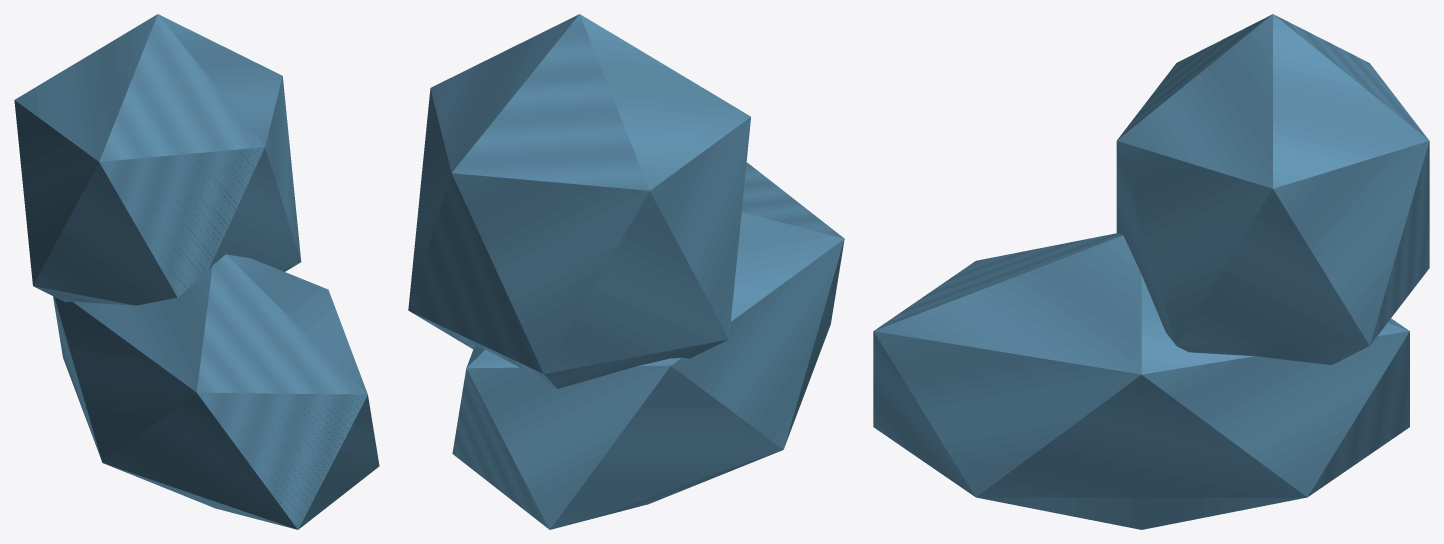
The model's file is distance.glb.
3 renders of one model, left to right at view 1: azimuth 30°, elevation 25°; view 2: azimuth 150°, elevation 25°; view 3: azimuth 270°, elevation 25°, orthographic. The views are drawn at different scales.
Parts seen in each view (by area): view 1: gear_distance; view 2: gear_distance; view 3: gear_distance.
Part boxes in pixels (box(x1,y1,x2,y2)): gear_distance: box(14, 14, 379, 529); gear_distance: box(408, 14, 844, 529); gear_distance: box(873, 14, 1429, 529).
Size of the model in its own units: 0.1878 by 0.325 by 0.3174.
1 material, 1 textured.
